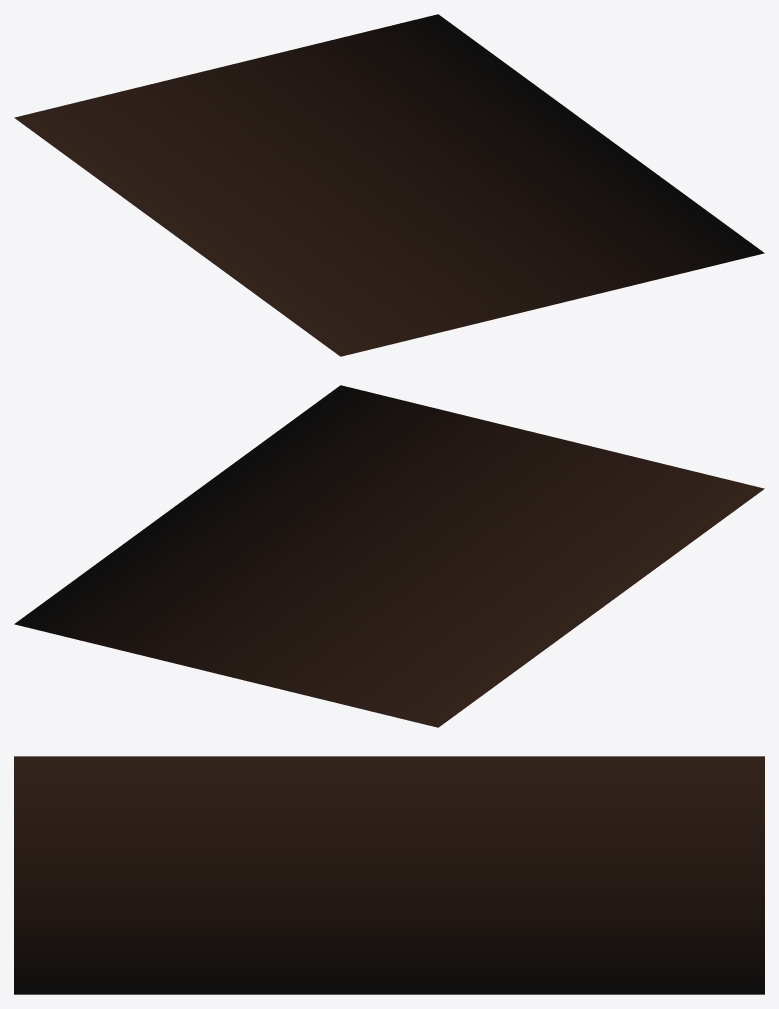
3 views of the same model, one above another, from view 1: azimuth 30°, elevation 25°; view 2: azimuth 150°, elevation 25°; view 3: azimuth 270°, elevation 25° (orthographic). The views are drawn at different scales.
Size of the model in its own units: 0.75 by 0 by 1.
1 material, 1 textured.
